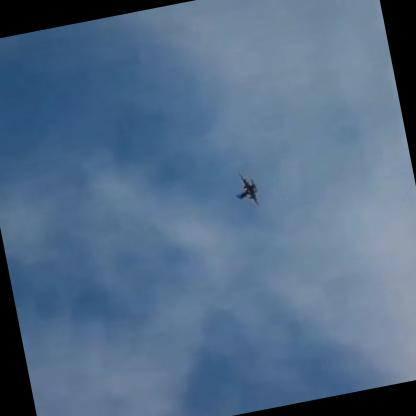plane: (229, 165, 263, 211)
